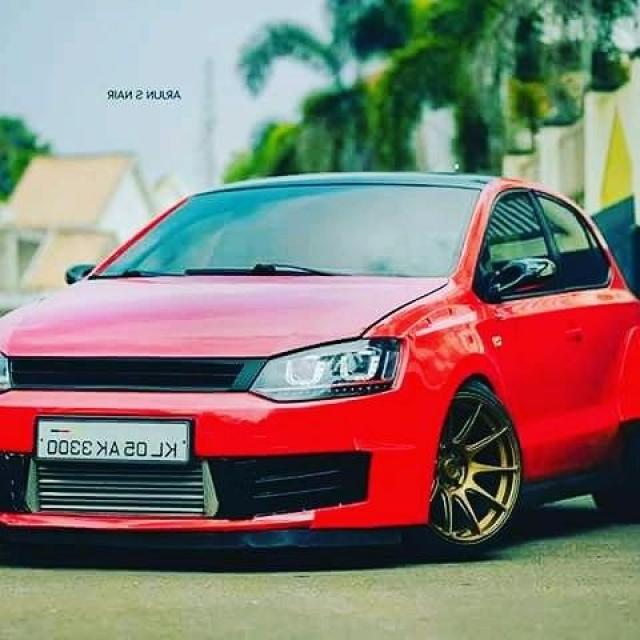number-plate: (28, 412, 201, 477)
